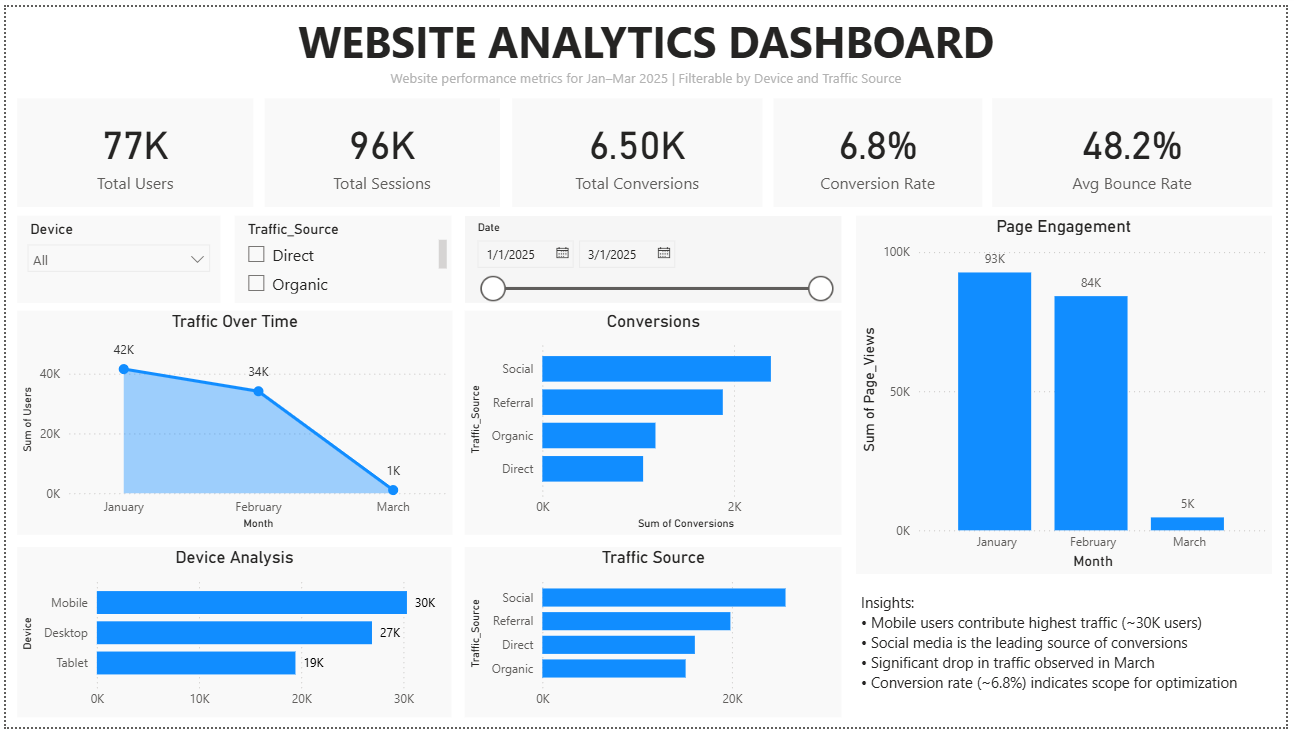

The page's visual inventory and layout, read from the dashboard file:
{"tool":"powerbi","page":{"name":"Page 1","canvas":[1280,720],"ordinal":0},"visuals":[{"type":"card","fields":{"Values":["website_analytics_dataset.Total Users"]},"box":[11.2,91.2,236.2,108.8],"z":0},{"type":"card","fields":{"Values":["website_analytics_dataset.Total Sessions"]},"box":[258.8,91.2,235,108.8],"z":1000},{"type":"card","fields":{"Values":["website_analytics_dataset.Conversion Rate"]},"box":[767.5,91.2,208.8,108.8],"z":2000},{"type":"lineChart","title":"Traffic Over Time","fields":{"Y":["Sum(website_analytics_dataset.Users)"],"Category":["website_analytics_dataset.Date.Variation.Date Hierarchy.Month"]},"box":[11.4,304.3,435,224.3],"z":4000},{"type":"clusteredBarChart","title":"Traffic Source","fields":{"Category":["website_analytics_dataset.Traffic_Source"],"Y":["Sum(website_analytics_dataset.Users)"]},"box":[458.6,540,377.1,170],"z":5000},{"type":"barChart","title":"Device Analysis","fields":{"Category":["website_analytics_dataset.Device"],"Y":["Sum(website_analytics_dataset.Users)"]},"box":[11.4,540,434.3,170],"z":6000},{"type":"columnChart","title":"Page Engagement","fields":{"Y":["Sum(website_analytics_dataset.Page_Views)"],"Category":["website_analytics_dataset.Date.Variation.Date Hierarchy.Month"]},"box":[850,208.6,415.7,358.6],"z":7000},{"type":"barChart","title":"Conversions ","fields":{"Category":["website_analytics_dataset.Traffic_Source"],"Y":["Sum(website_analytics_dataset.Conversions)"]},"box":[458.6,304.3,377.1,224.3],"z":8000},{"type":"slicer","fields":{"Values":["website_analytics_dataset.Device"]},"box":[11.4,208.6,202.9,87.1],"z":9000},{"type":"slicer","fields":{"Values":["website_analytics_dataset.Traffic_Source"]},"box":[228.6,208.6,217.1,87.1],"z":10000},{"type":"card","fields":{"Values":["website_analytics_dataset.Total Conversions"]},"box":[506.2,91.2,250,108.8],"z":11000},{"type":"slicer","fields":{"Values":["website_analytics_dataset.Date"]},"box":[458.6,208.6,377.1,87.1],"z":12000},{"type":"textbox","box":[850,580,415.7,130],"z":12001},{"type":"textbox","box":[0,0,1280,91.2],"z":12002},{"type":"card","fields":{"Values":["website_analytics_dataset.Avg Bounce Rate"]},"box":[986.2,91.2,280,108.8],"z":12003}]}

Visuals, with their boxes in screenshot pixels (x1, y1, x2, y2), scaled from the page's 1280x720 canvas onto the 1294x735 screenshot:
card - website_analytics_dataset.Total Users: [left=11, top=93, right=250, bottom=204]
card - website_analytics_dataset.Total Sessions: [left=262, top=93, right=499, bottom=204]
card - website_analytics_dataset.Conversion Rate: [left=776, top=93, right=987, bottom=204]
"Traffic Over Time" lineChart: [left=12, top=311, right=451, bottom=540]
"Traffic Source" clusteredBarChart: [left=464, top=551, right=845, bottom=725]
"Device Analysis" barChart: [left=12, top=551, right=451, bottom=725]
"Page Engagement" columnChart: [left=859, top=213, right=1280, bottom=579]
"Conversions " barChart: [left=464, top=311, right=845, bottom=540]
slicer - website_analytics_dataset.Device: [left=12, top=213, right=217, bottom=302]
slicer - website_analytics_dataset.Traffic_Source: [left=231, top=213, right=451, bottom=302]
card - website_analytics_dataset.Total Conversions: [left=512, top=93, right=764, bottom=204]
slicer - website_analytics_dataset.Date: [left=464, top=213, right=845, bottom=302]
textbox: [left=859, top=592, right=1280, bottom=725]
textbox: [left=0, top=0, right=1293, bottom=93]
card - website_analytics_dataset.Avg Bounce Rate: [left=997, top=93, right=1280, bottom=204]
